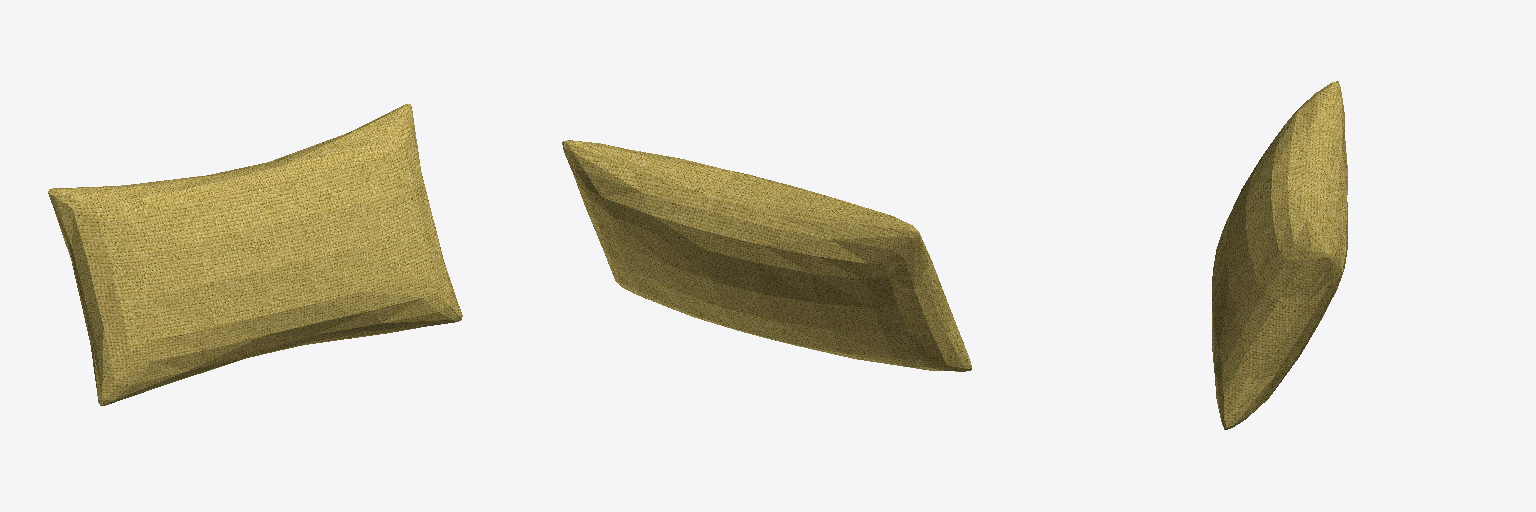
3 views of the same model, side by side, from view 1: azimuth 30°, elevation 25°; view 2: azimuth 150°, elevation 25°; view 3: azimuth 270°, elevation 25° (orthographic).
Visible parts, largest first — view 1: Object002; view 2: Object002; view 3: Object002.
Part boxes in pixels (bbox=[...]): Object002: bbox=[48, 104, 462, 405]; Object002: bbox=[562, 140, 971, 371]; Object002: bbox=[1212, 81, 1347, 429].
Size of the model in its own units: 41.02 by 19.54 by 13.44.
Materials: 1 (1 with a texture image).